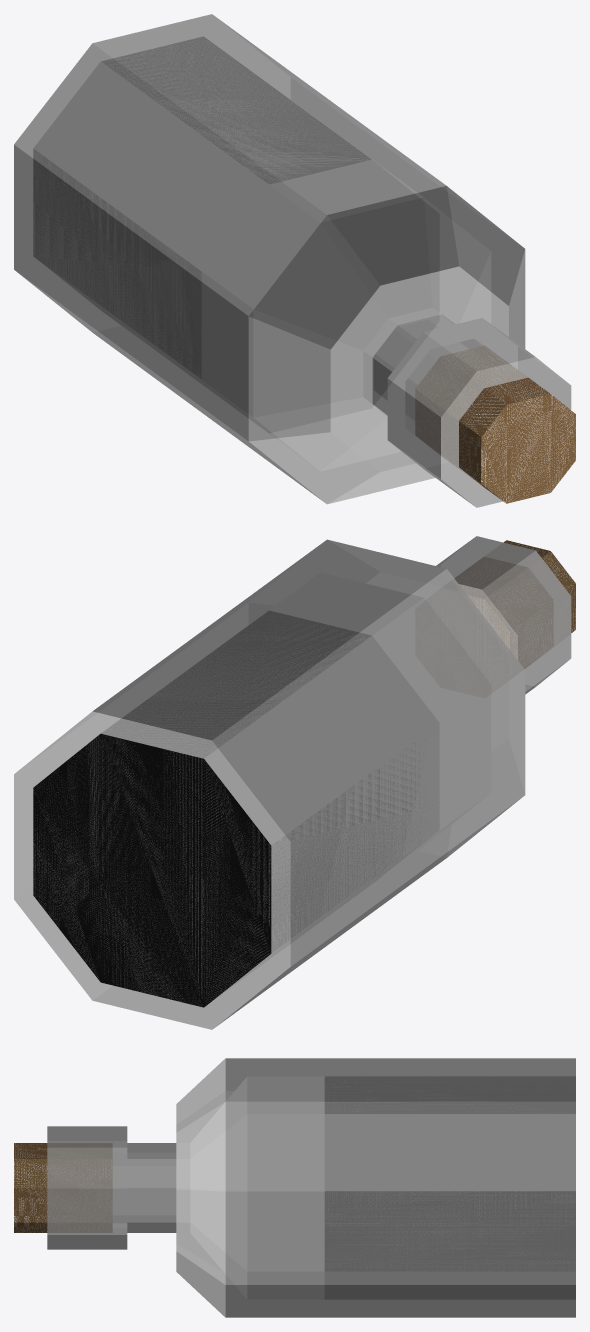
File: model_align.obj
3 renders of one model, top to bottom at view 1: azimuth 30°, elevation 25°; view 2: azimuth 150°, elevation 25°; view 3: azimuth 270°, elevation 25°, orthographic. The views are drawn at different scales.
Parts seen in each view (by area): view 1: mesh1_mesh1-geometry, mesh2_mesh2-geometry, mesh3_mesh3-geometry; view 2: mesh1_mesh1-geometry, mesh2_mesh2-geometry, mesh3_mesh3-geometry; view 3: mesh1_mesh1-geometry, mesh2_mesh2-geometry, mesh3_mesh3-geometry.
Boxes of the visible parts, bbox=[...] form: mesh1_mesh1-geometry: bbox=[14, 14, 571, 507]; mesh2_mesh2-geometry: bbox=[33, 37, 370, 378]; mesh3_mesh3-geometry: bbox=[415, 346, 575, 503]; mesh1_mesh1-geometry: bbox=[14, 536, 571, 1029]; mesh2_mesh2-geometry: bbox=[33, 611, 415, 1007]; mesh3_mesh3-geometry: bbox=[455, 540, 575, 668]; mesh1_mesh1-geometry: bbox=[47, 1058, 575, 1317]; mesh2_mesh2-geometry: bbox=[325, 1076, 575, 1271]; mesh3_mesh3-geometry: bbox=[14, 1143, 112, 1232].
Size of the model in its own units: 0.0572 by 0.0572 by 0.1348.
